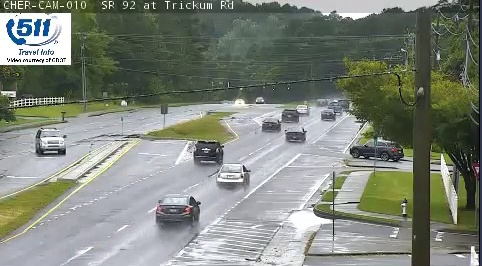car: (156, 195, 200, 224), (217, 163, 249, 185), (193, 140, 223, 160), (285, 126, 306, 142), (261, 117, 281, 132), (281, 108, 298, 122), (320, 109, 334, 120), (295, 104, 309, 115)
